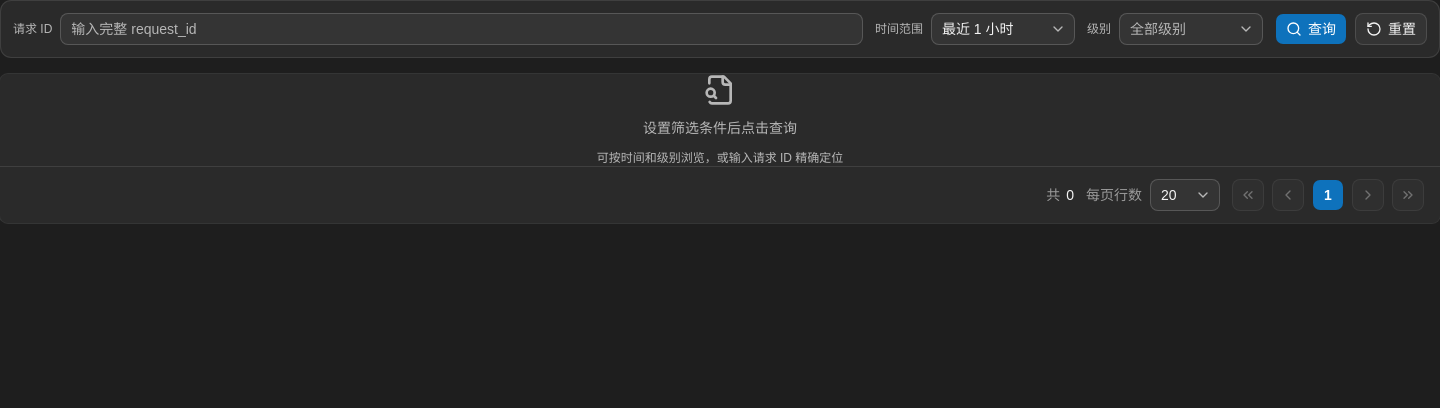
Test: 第二页变空且总数降为 1 时仍能返回前页
In the field named "request_id": [462, 29] box [60,13,863,45], type "request-page-test"
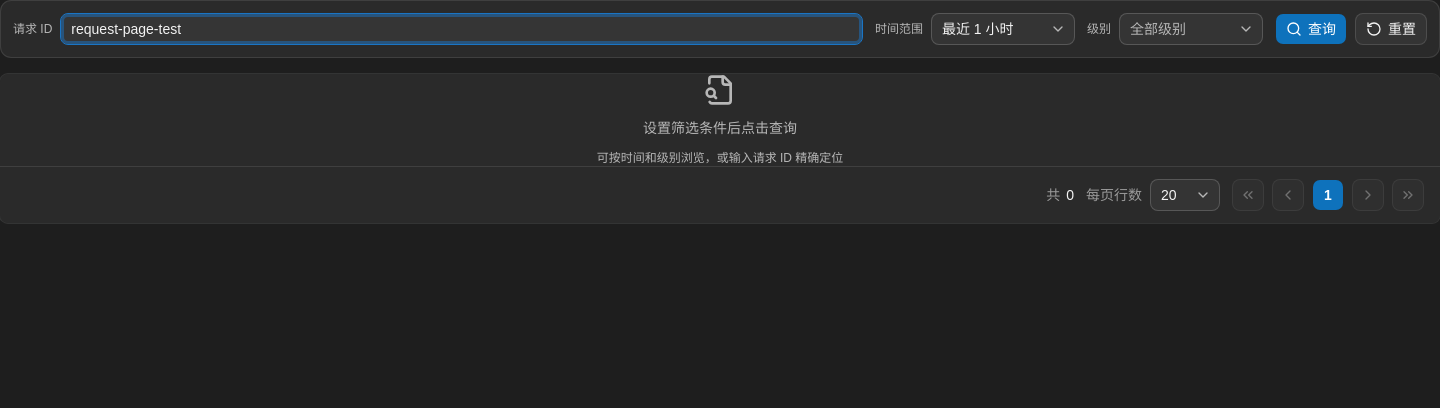
Click the button "查询": [1311, 29] box [1275,13,1347,45]
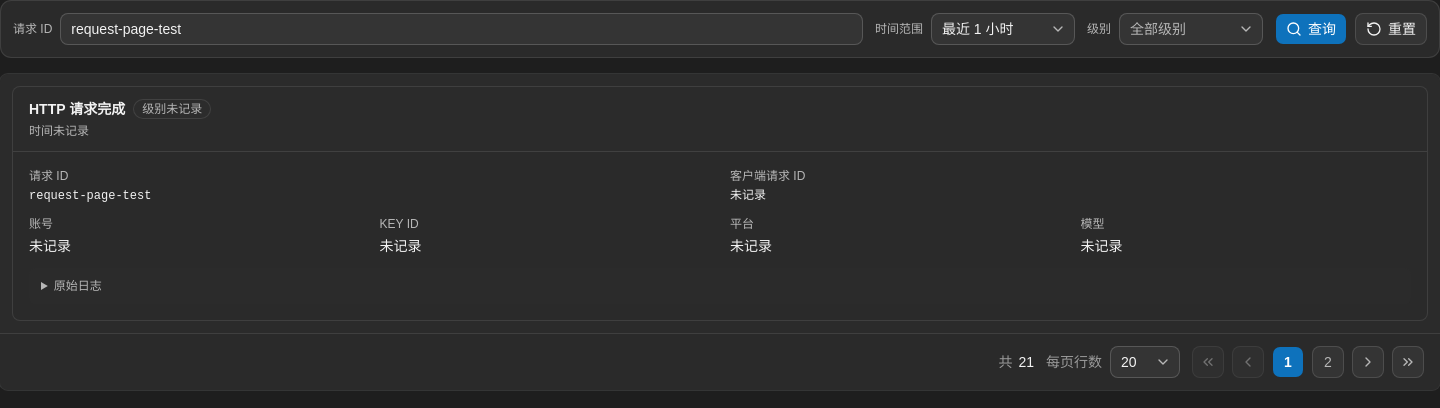
Result: the text "request-page-test" is shown at [29,189,151,203]
Click the button named "转到下一页": [1368, 362] box [1352,346,1384,378]
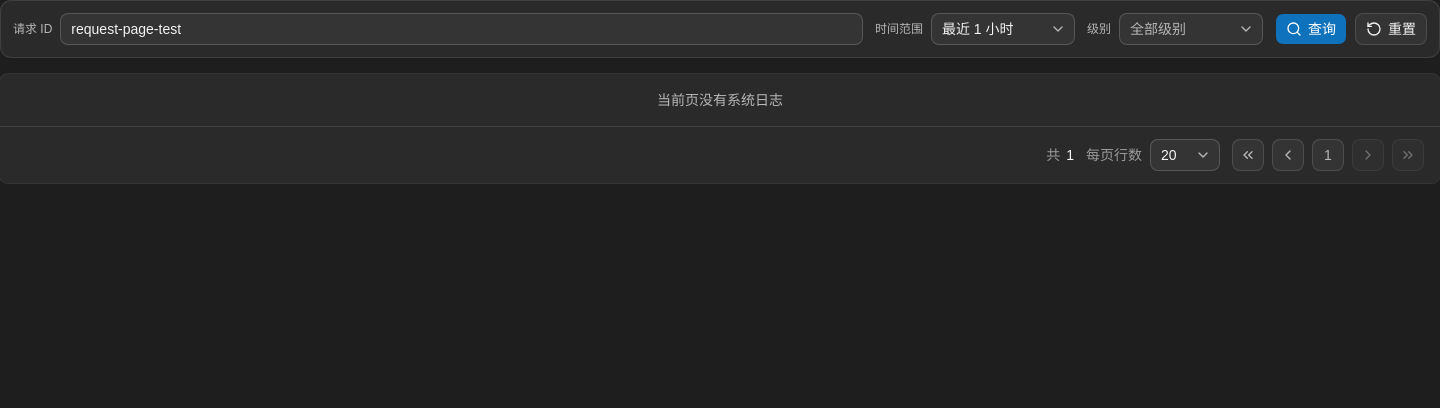
Expected: the button named "转到下一页" is disabled, [1352,139,1384,171]
Result: the text "当前页没有系统日志" is shown at [657,92,783,108]
Click the button named "转到上一页": [1288, 155] box [1272,139,1304,171]
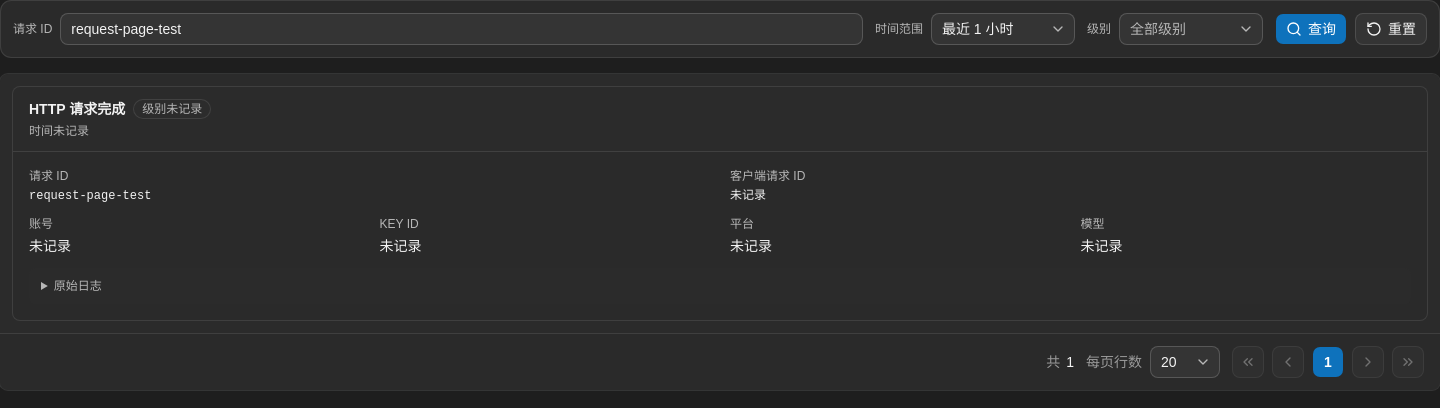
Result: the button named "转到上一页" is disabled at [1272,346,1304,378]
Result: the text "request-page-test" is shown at [29,189,151,203]
